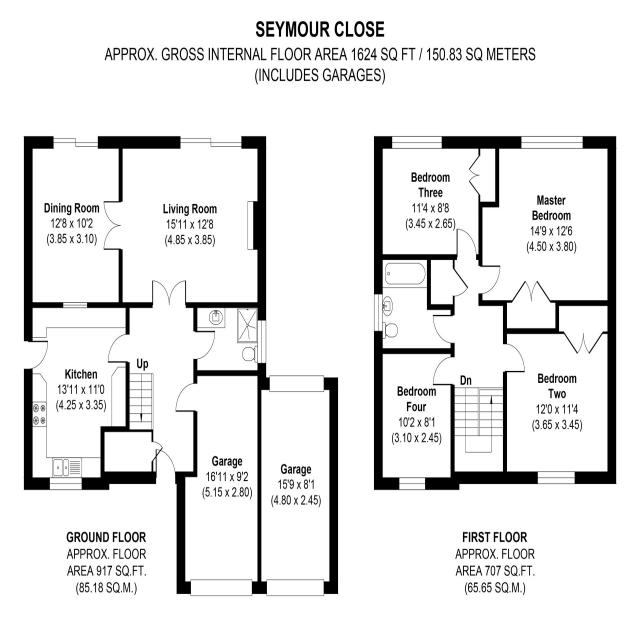DOOR: (155, 447, 177, 485), (192, 329, 217, 362), (502, 342, 527, 374), (23, 340, 49, 370), (174, 382, 198, 414), (432, 313, 455, 346), (456, 227, 478, 261), (478, 264, 501, 296), (432, 355, 455, 387), (107, 333, 130, 363)
DOUBLE DOOR: (103, 199, 123, 251), (152, 279, 187, 308)
ROOM: (103, 135, 267, 308), (478, 136, 617, 334), (502, 300, 616, 484), (24, 302, 130, 490), (24, 136, 123, 308), (373, 136, 499, 260), (374, 347, 460, 490)
SLIDING DOOR: (178, 135, 243, 149), (52, 135, 99, 149)
WINDOW: (520, 135, 584, 150), (391, 135, 443, 150), (536, 470, 576, 486), (256, 319, 267, 365), (49, 477, 82, 491), (373, 292, 384, 333), (398, 476, 426, 491), (63, 302, 88, 309)
